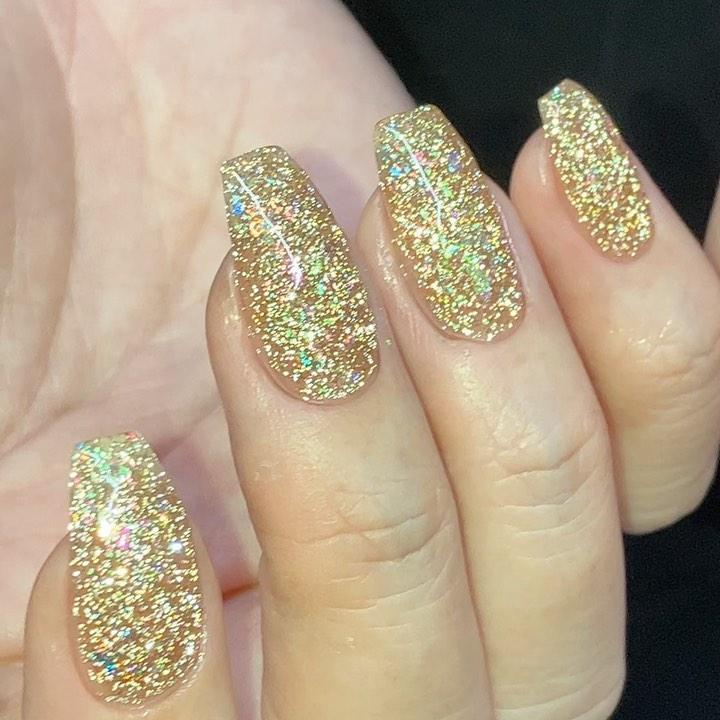nail: (218, 143, 380, 404), (65, 429, 208, 712), (371, 101, 528, 343), (536, 76, 655, 262)
